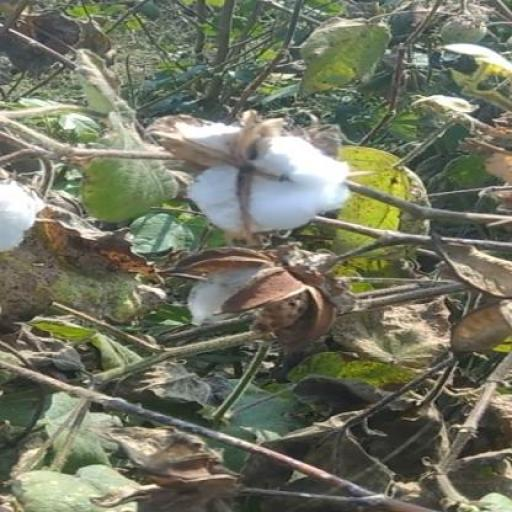cotton_ready: (166, 102, 353, 240)
